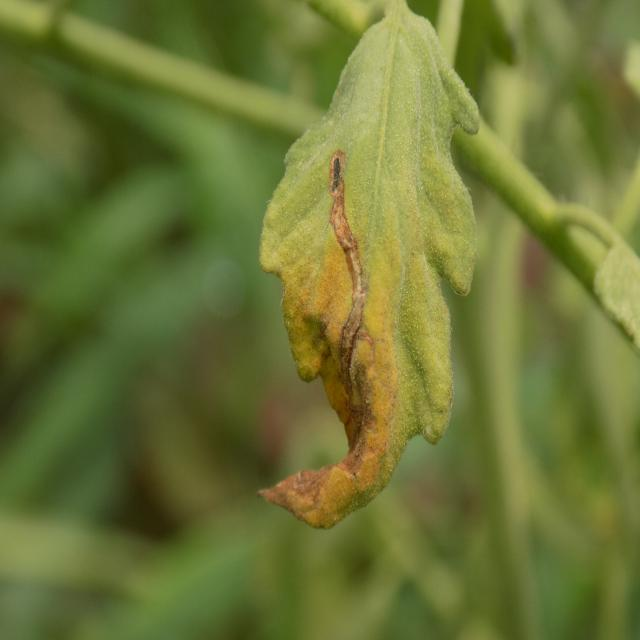tomato_early blight: (259, 0, 477, 534)
